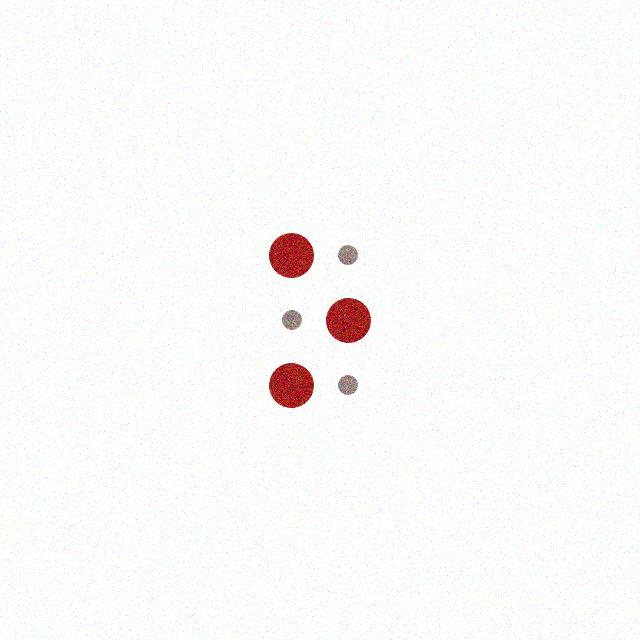O: (263, 226, 374, 416)
